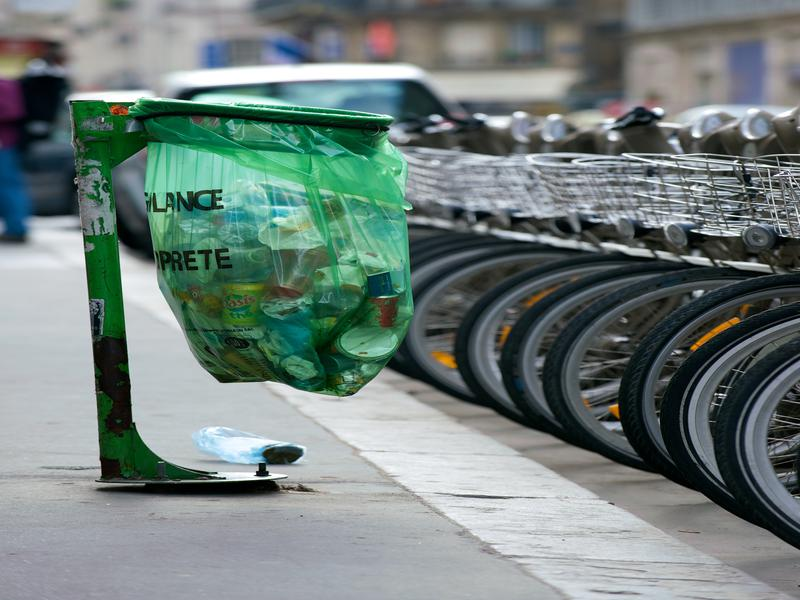plastic: (129, 116, 429, 398)
